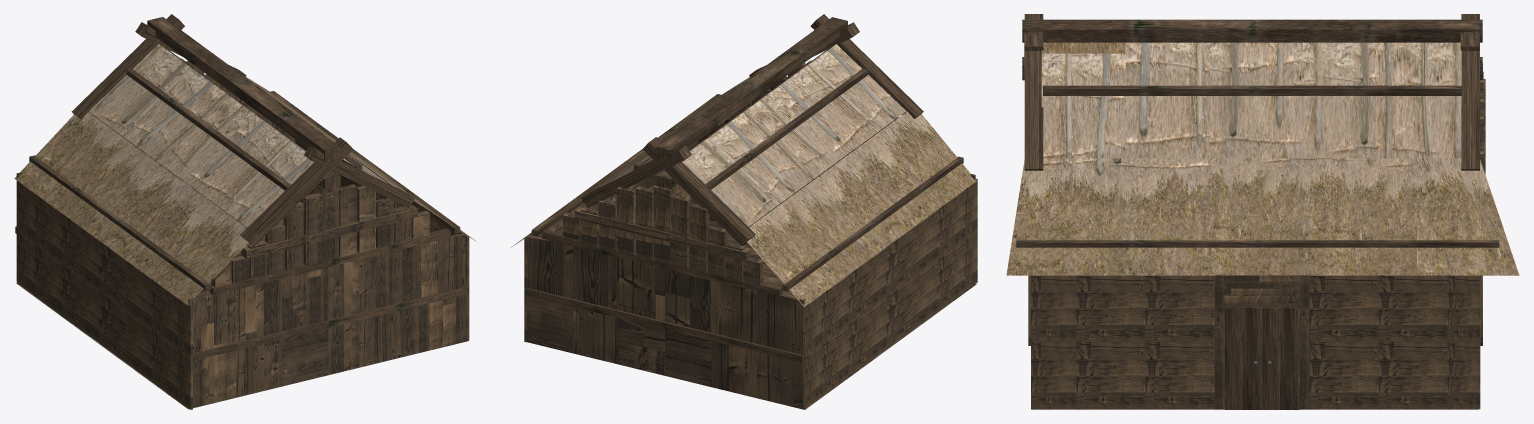
The model's file is depooo.fbx.
3 renders of one model, left to right at view 1: azimuth 30°, elevation 25°; view 2: azimuth 150°, elevation 25°; view 3: azimuth 270°, elevation 25°, orthographic. The views are drawn at different scales.
Visible parts, largest first — view 1: Cube.011; view 2: Cube.011; view 3: Cube.011.
Boxes of the visible parts, <box> form: Cube.011: <box>14,14,476,409</box>; Cube.011: <box>511,14,977,409</box>; Cube.011: <box>1006,14,1519,409</box>.
Size of the model in its own units: 8962 by 6955 by 10813.
Materials: 6 (5 with a texture image).
